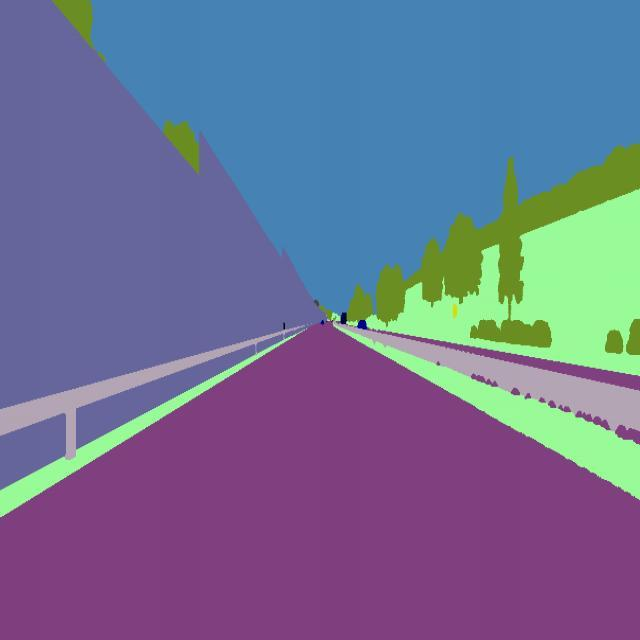safe: (340, 310, 348, 327), (358, 318, 367, 328)
